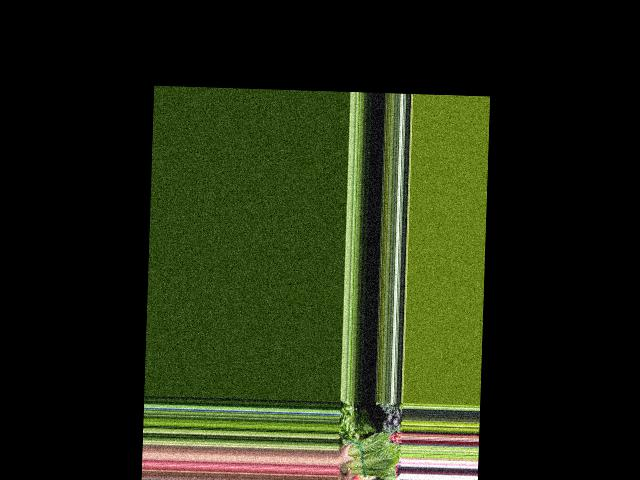lettuce: (336, 430, 397, 479)
